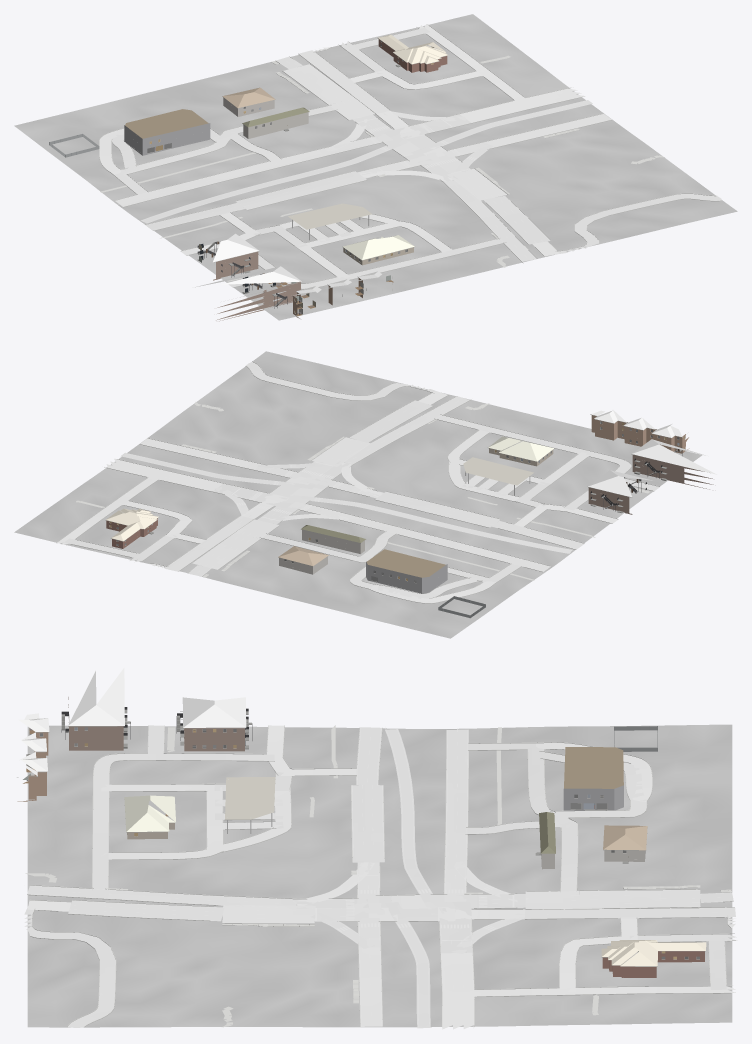
3 renders of one model, top to bottom at view 1: azimuth 30°, elevation 25°; view 2: azimuth 150°, elevation 25°; view 3: azimuth 270°, elevation 25°, orthographic. The views are drawn at different scales.
Visible parts, largest first — view 1: ground, asphalt, concrete, curb, roof, wall, roof_flat, mark_w, wall_com, walk, wall_stone, detail (+1 smaller); view 2: ground, asphalt, concrete, curb, roof, wall, roof_flat, mark_w, wall_com, walk, wall_stone, detail (+1 smaller); view 3: ground, asphalt, concrete, roof, curb, wall, roof_flat, mark_w, walk, mark_y, detail, wall_com (+1 smaller).
Part boxes in pixels (x1,y1,x2,y2): ground: (14,14,737,320); asphalt: (115,50,611,261); concrete: (99,24,722,288); curb: (99,25,722,289); roof: (190,34,447,295); wall: (213,39,447,321); roof_flat: (125,109,371,229); mark_w: (117,50,610,261); wall_com: (124,123,369,240); walk: (100,55,664,281); wall_stone: (223,98,308,138); detail: (49,38,447,313); ground: (14,351,702,638); asphalt: (106,391,584,576); concrete: (56,362,659,602); curb: (56,361,659,603); roof: (106,410,716,565); wall: (106,415,713,548); roof_flat: (366,457,533,577); mark_w: (108,392,582,576); wall_com: (366,458,530,593); walk: (76,402,649,580); wall_stone: (279,530,364,574); detail: (105,414,689,615); ground: (27,724,732,1027); asphalt: (27,727,735,1029); concrete: (24,725,737,1027); roof: (18,668,706,966); curb: (27,725,735,1027); wall: (17,697,704,977); roof_flat: (225,747,623,819); mark_w: (29,727,730,1028); walk: (25,725,731,1027); mark_y: (29,728,731,1027); detail: (17,706,705,967); wall_com: (227,779,623,833).
Size of the model in its own units: 281 by 14.74 by 257.
